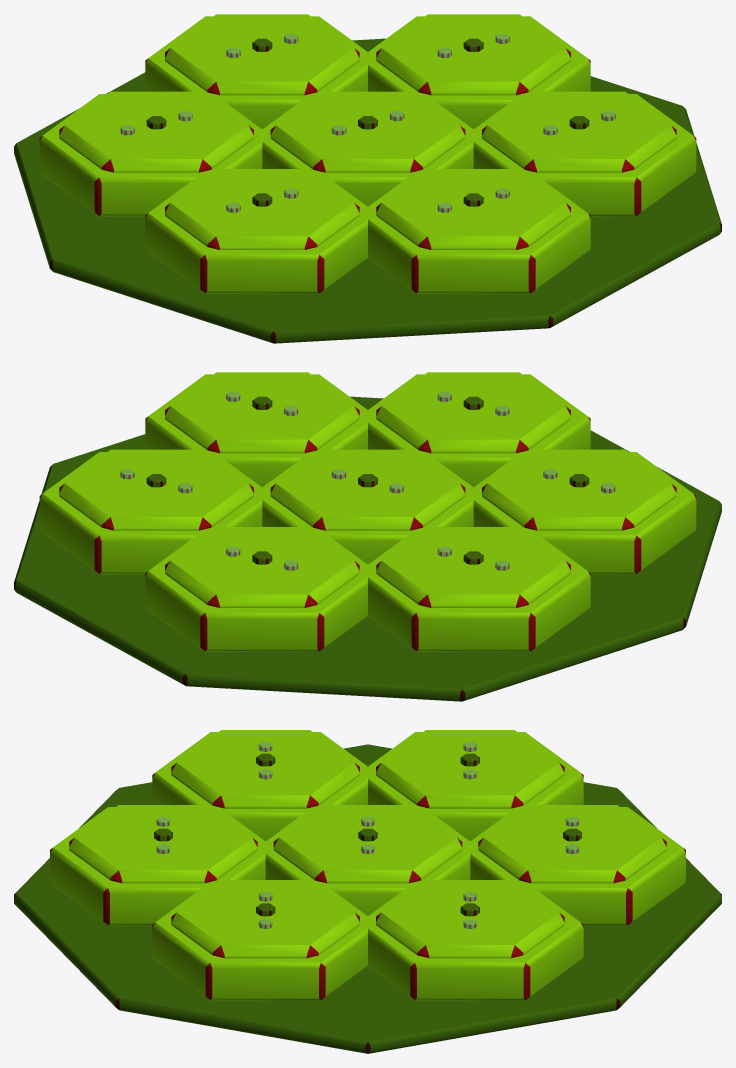
The model's file is RCLModule_bastion_siege_mech_cryo_glacier_camo_era.fbx.
3 renders of one model, top to bottom at view 1: azimuth 30°, elevation 25°; view 2: azimuth 150°, elevation 25°; view 3: azimuth 270°, elevation 25°, orthographic. The views are drawn at different scales.
Parts seen in each view (by area): view 1: RCLModule_bastion_siege_mech_cryo_glacier_camo_era_Batch_RCL (×3); view 2: RCLModule_bastion_siege_mech_cryo_glacier_camo_era_Batch_RCL (×3); view 3: RCLModule_bastion_siege_mech_cryo_glacier_camo_era_Batch_RCL (×3).
Part boxes in pixels (<box>): RCLModule_bastion_siege_mech_cryo_glacier_camo_era_Batch_RCL (×3): <box>14,14,721,343</box>; RCLModule_bastion_siege_mech_cryo_glacier_camo_era_Batch_RCL (×3): <box>14,372,721,701</box>; RCLModule_bastion_siege_mech_cryo_glacier_camo_era_Batch_RCL (×3): <box>14,730,721,1053</box>.
Size of the model in its own units: 47.79 by 5.48 by 47.79.
